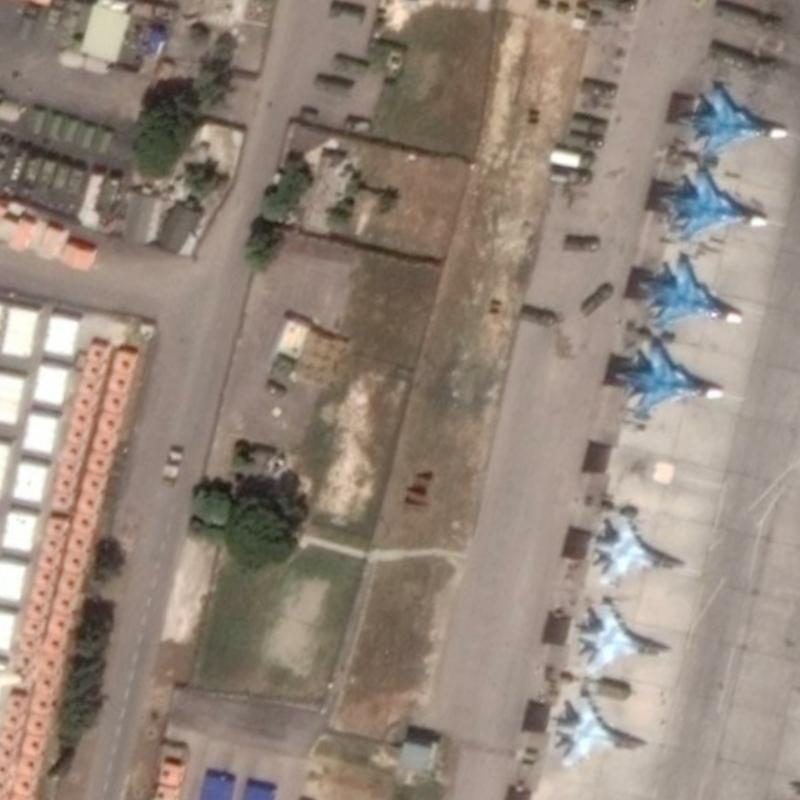A1: (546, 689, 647, 770), (572, 592, 666, 676), (588, 506, 686, 586)
A19: (613, 337, 730, 420), (635, 248, 747, 331), (680, 78, 794, 159), (658, 162, 775, 237)
